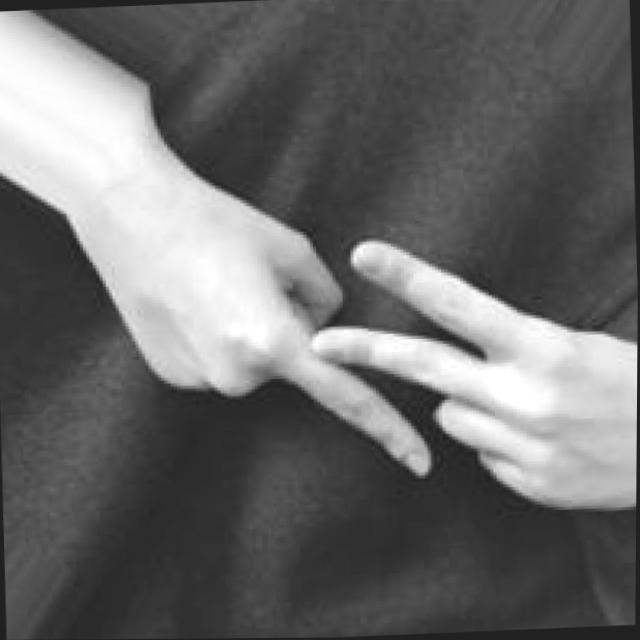Z: (95, 139, 639, 530)
